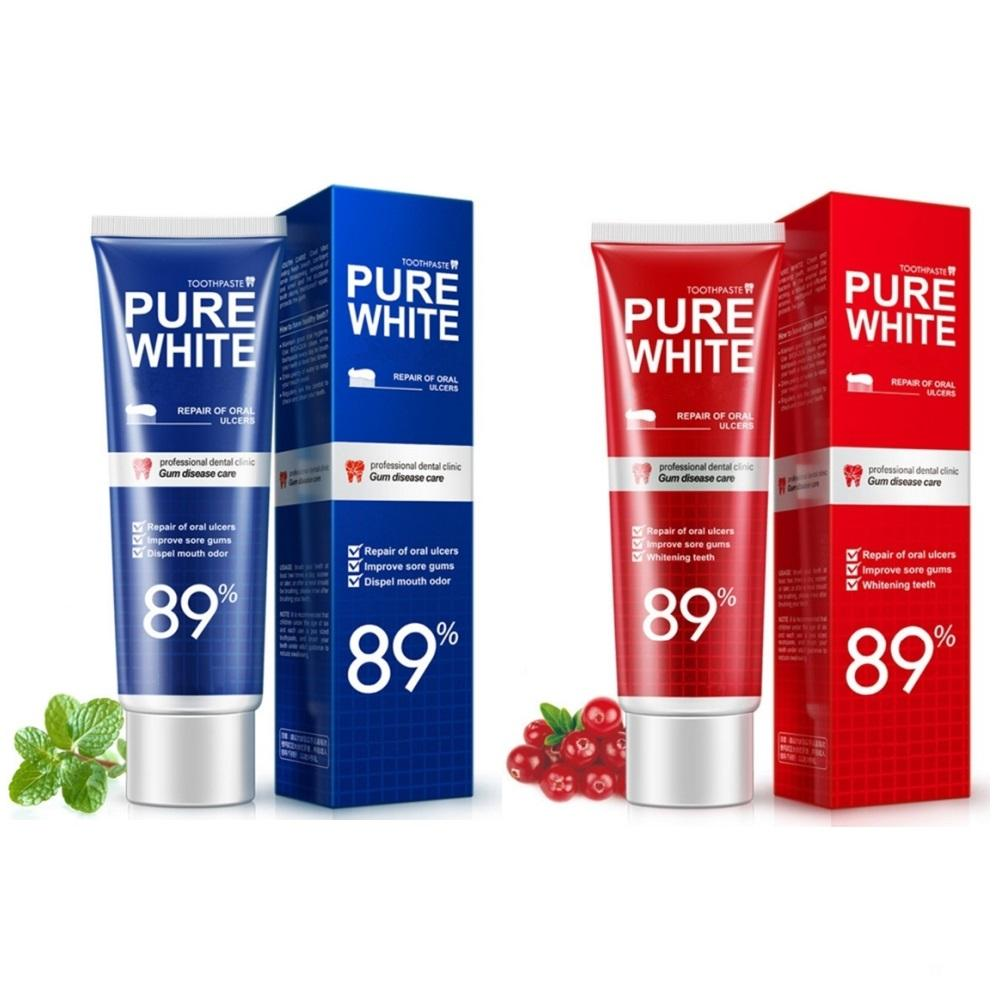toothpaste: (282, 160, 511, 851), (573, 201, 784, 824), (783, 175, 979, 835), (73, 183, 268, 821)
